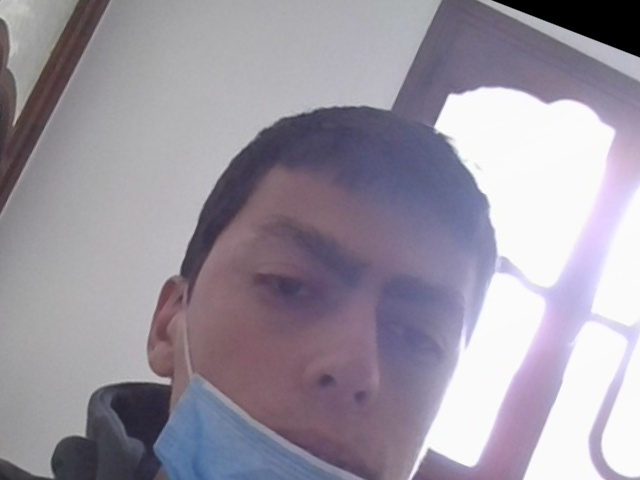mask_weared_incorrect: (166, 148, 465, 480)
